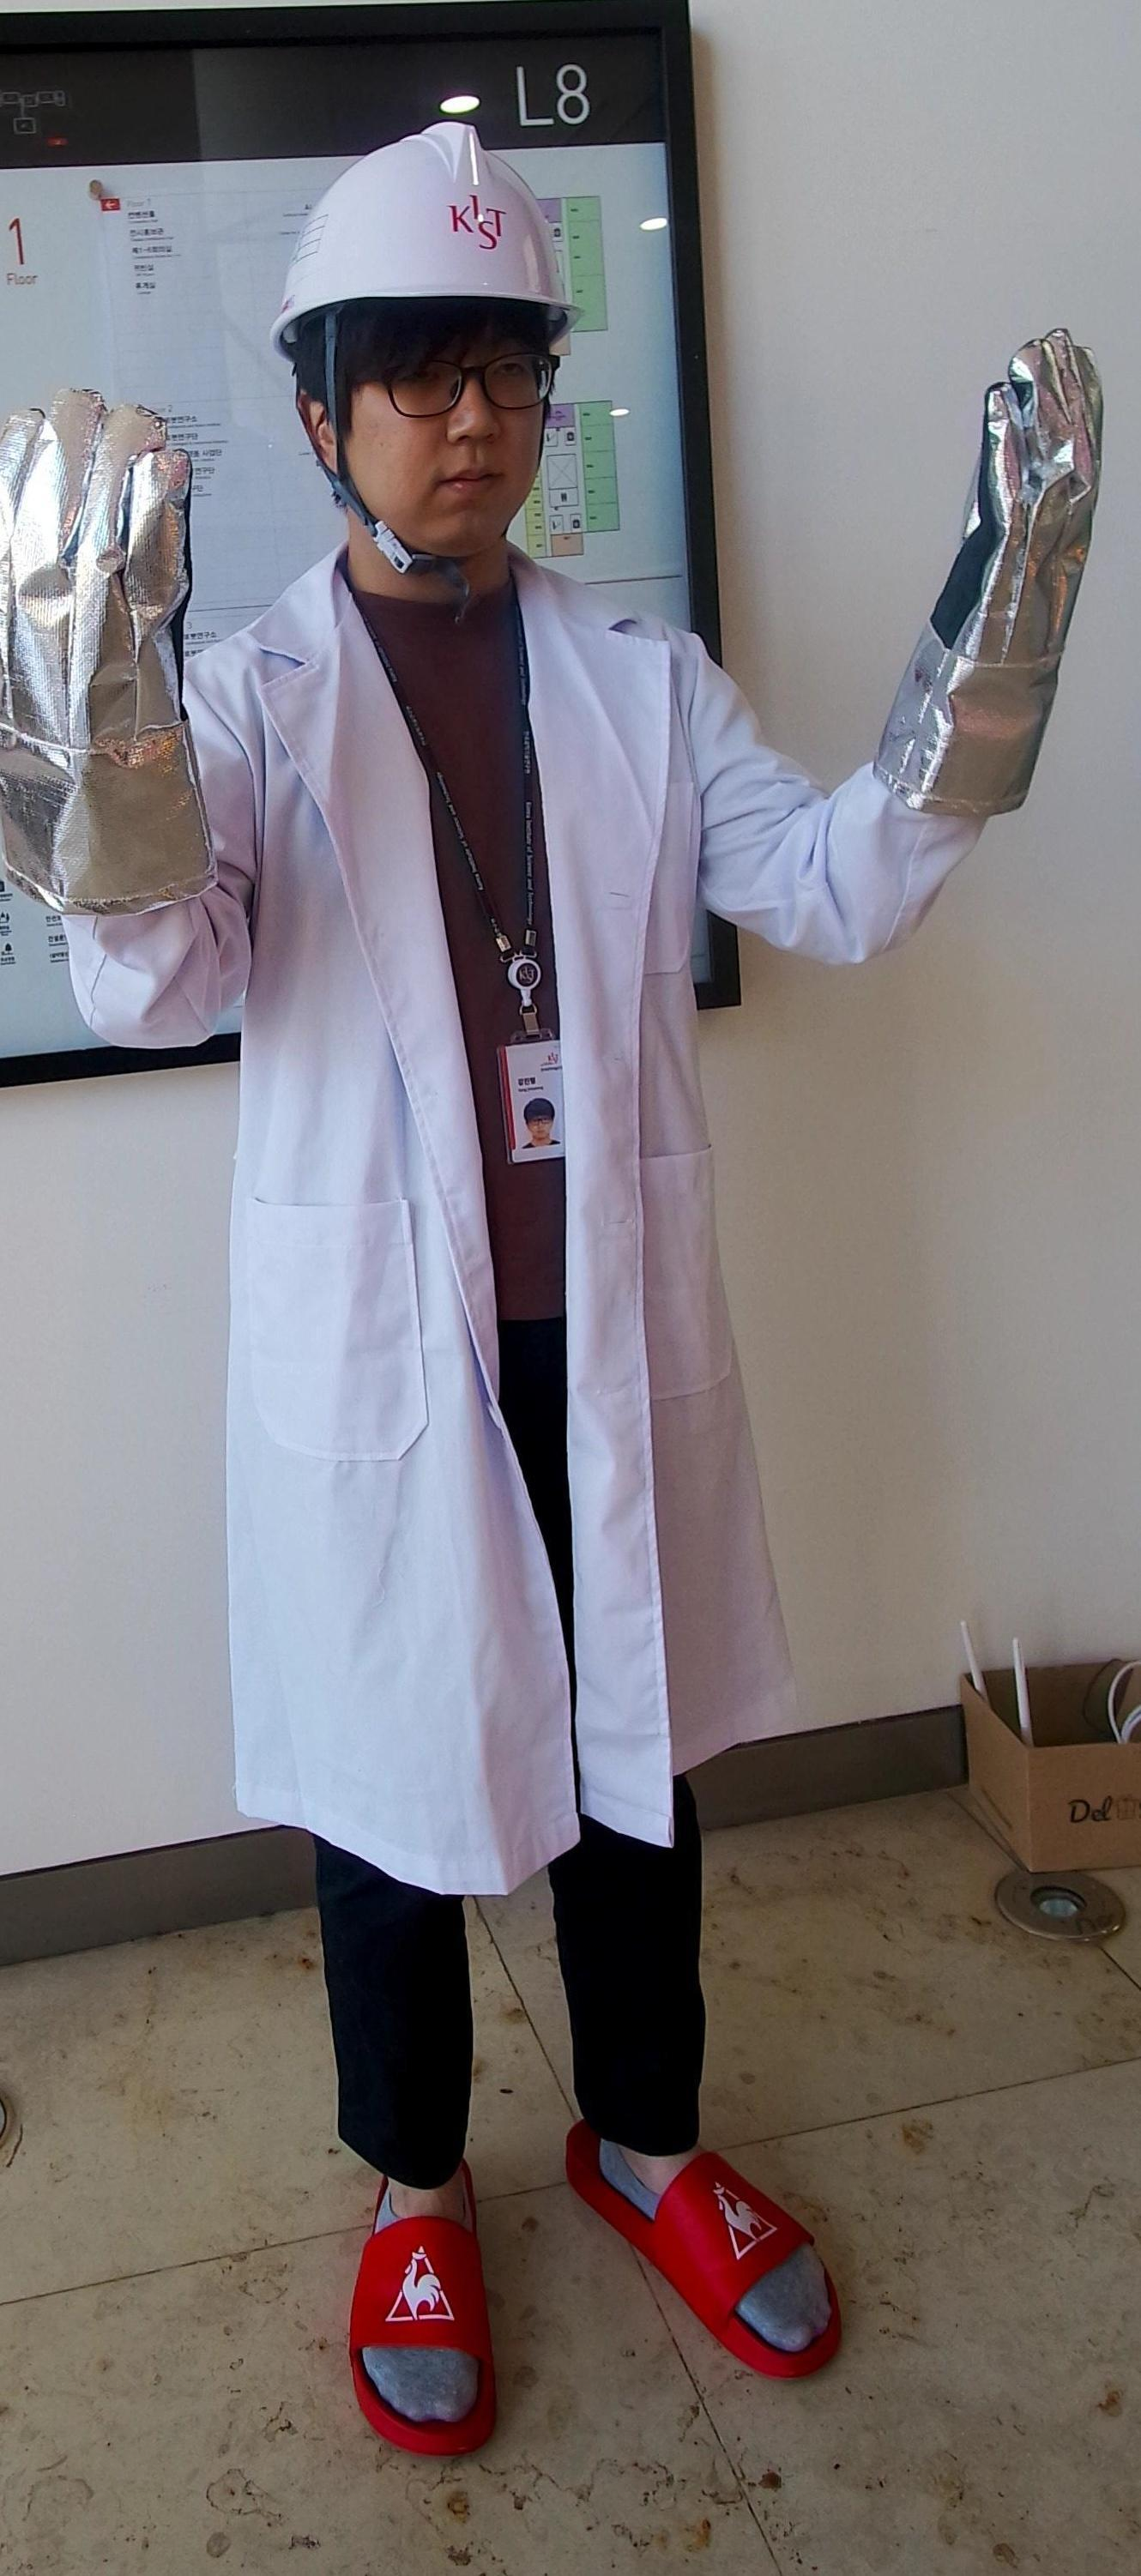lab_coat: (201, 614, 751, 1870)
